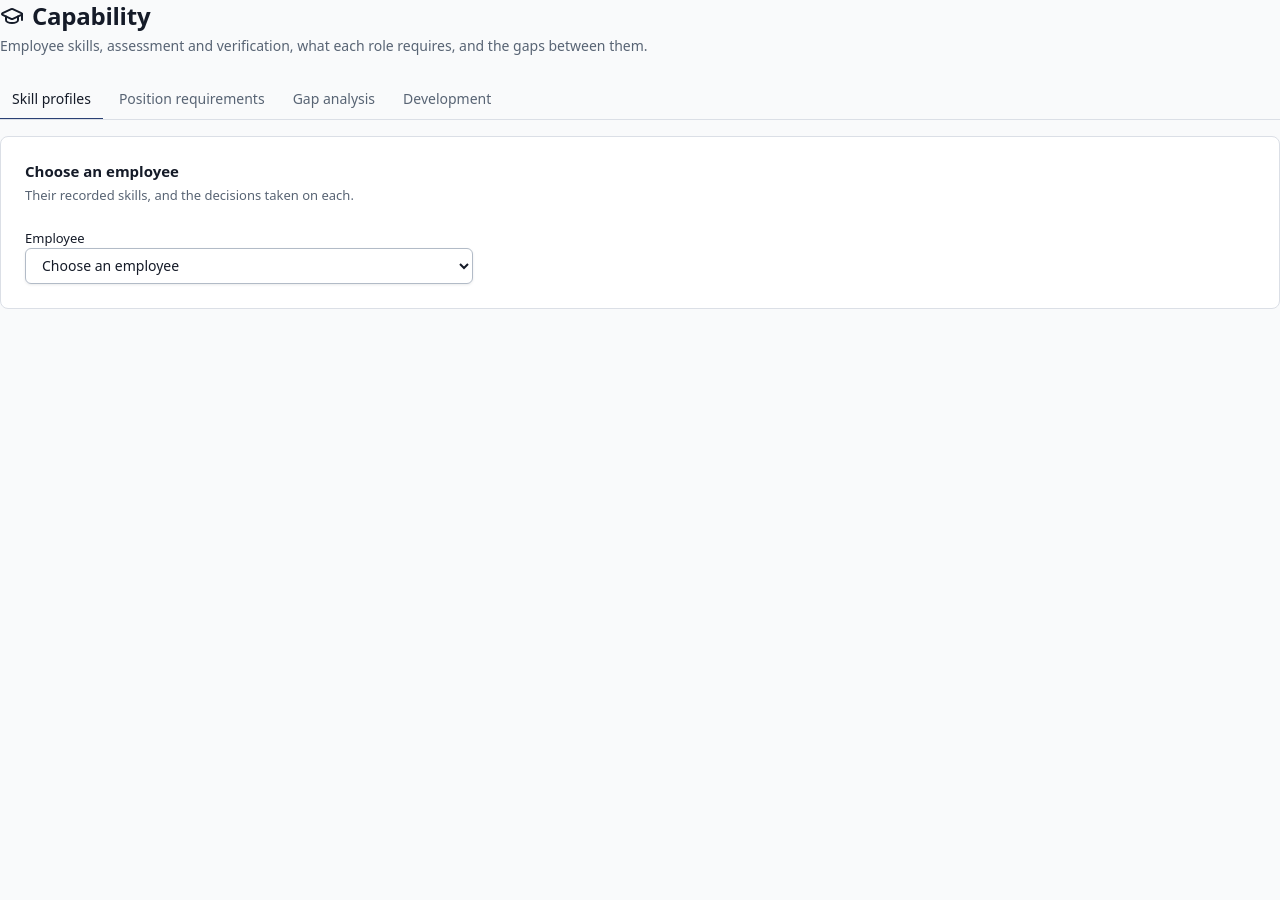
Test case: Capability workspace › asks before withdrawing a position requirement, and Cancel withdraws nothing
Click the tab "Position requirements" at point(192, 100), box [107,80,277,120]
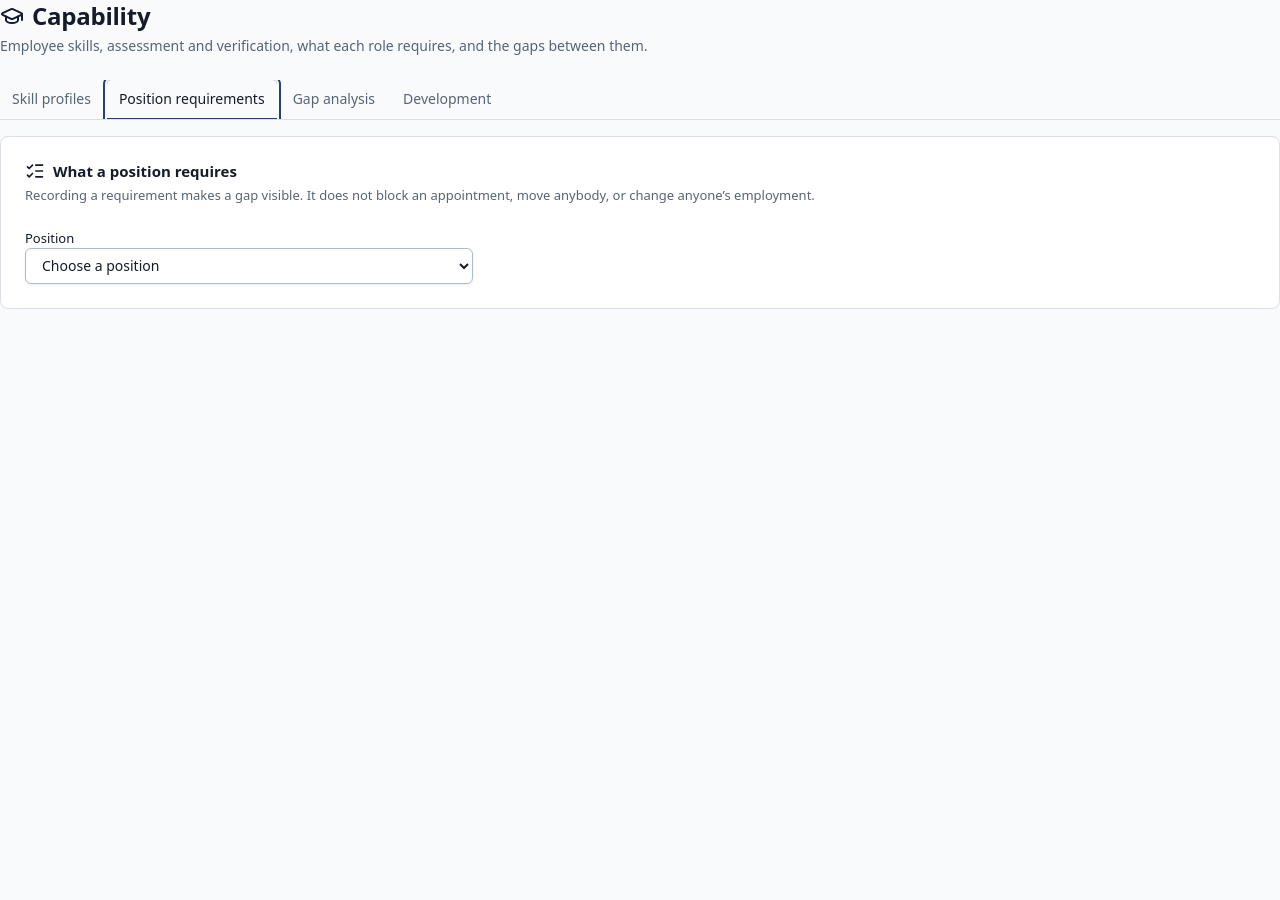
Select "Ward Sister" in the dropdown with test id "select-requirement-position" at point(249, 266), box [25,248,473,284]
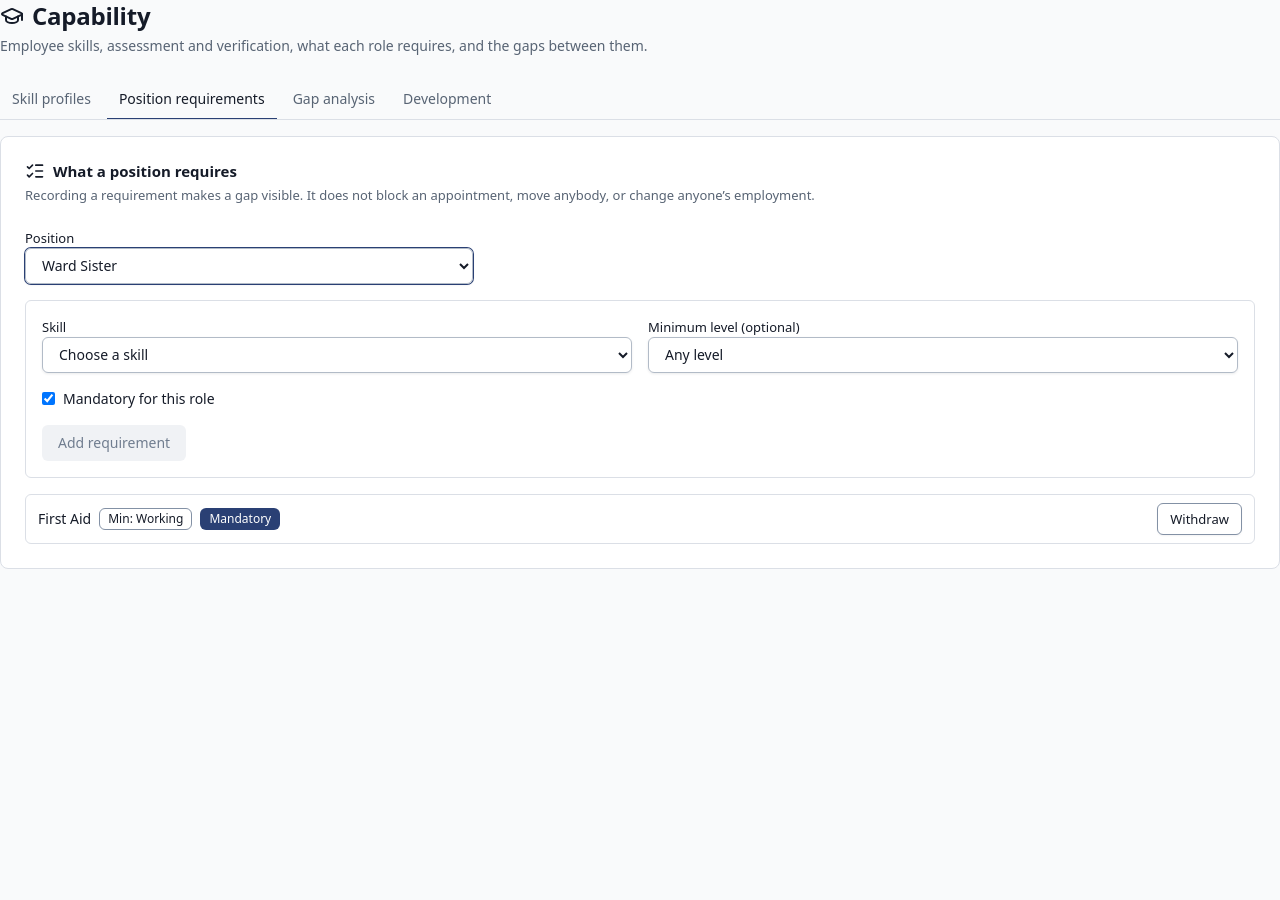
Click the button with test id "button-remove-requirement-31" at point(1200, 519), box [1157,503,1242,535]
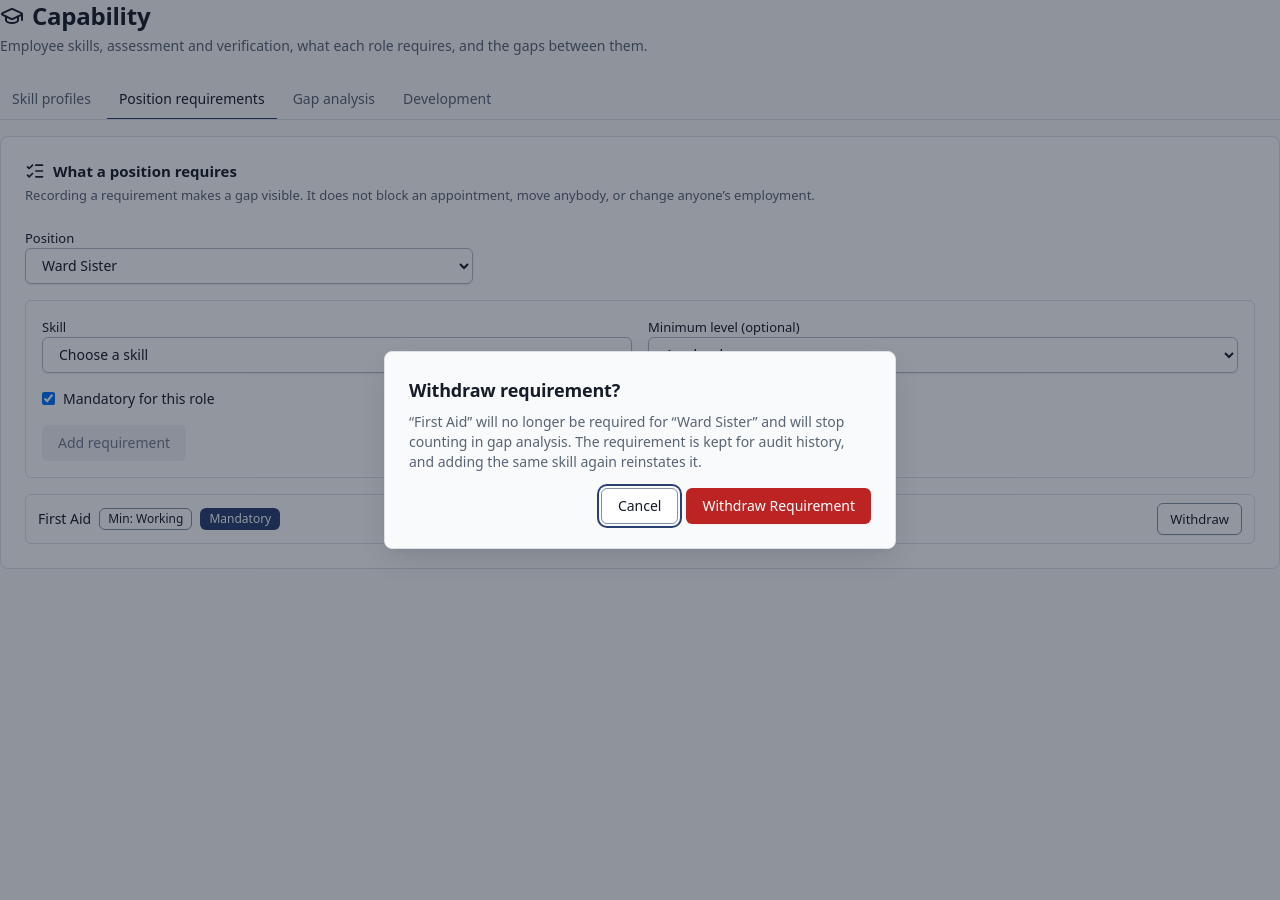
Now the dialog with test id "dialog-withdraw-requirement" shows "Withdraw requirement?", box [409,378,620,402]
Now the dialog with test id "dialog-withdraw-requirement" shows "“First Aid” will no longer be required for “Ward Sister”", box [409,412,844,451]
Click the button with test id "dialog-withdraw-requirement-cancel" at point(640, 506), box [601,488,678,524]
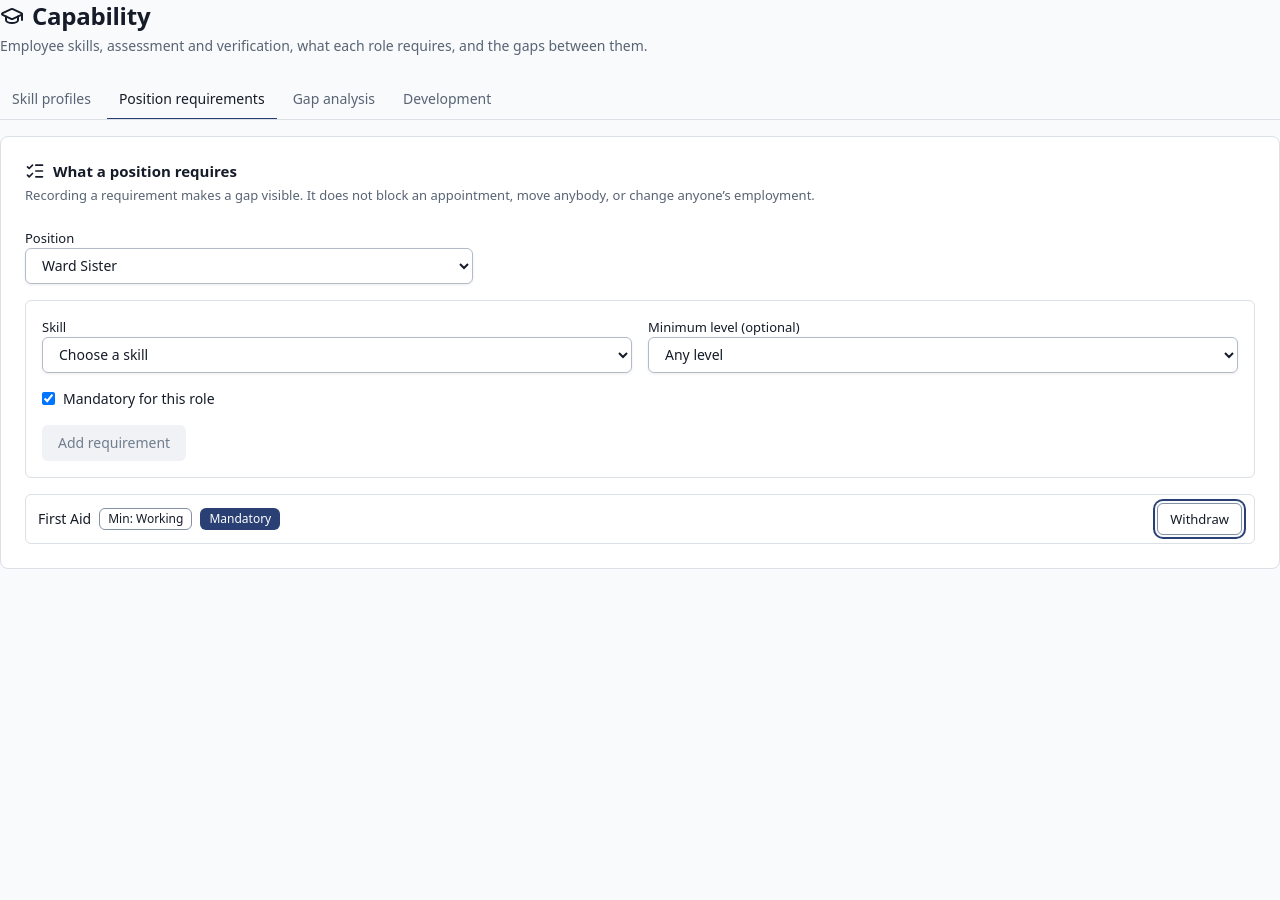
Now the dialog with test id "dialog-withdraw-requirement" is gone
